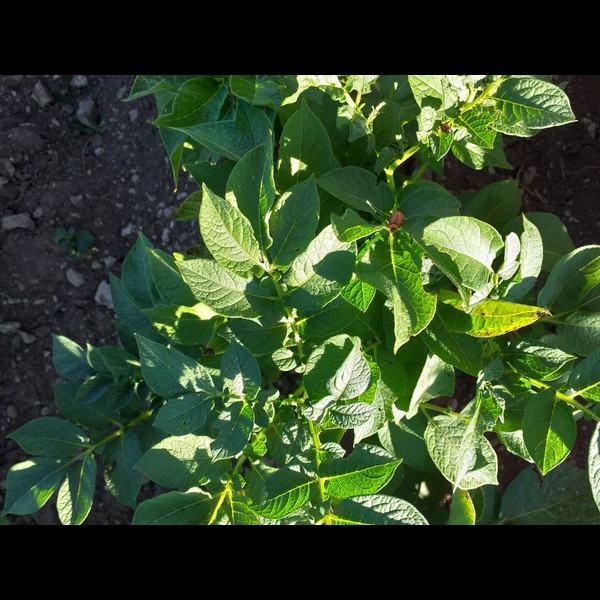hrosc: (385, 209, 406, 234)
